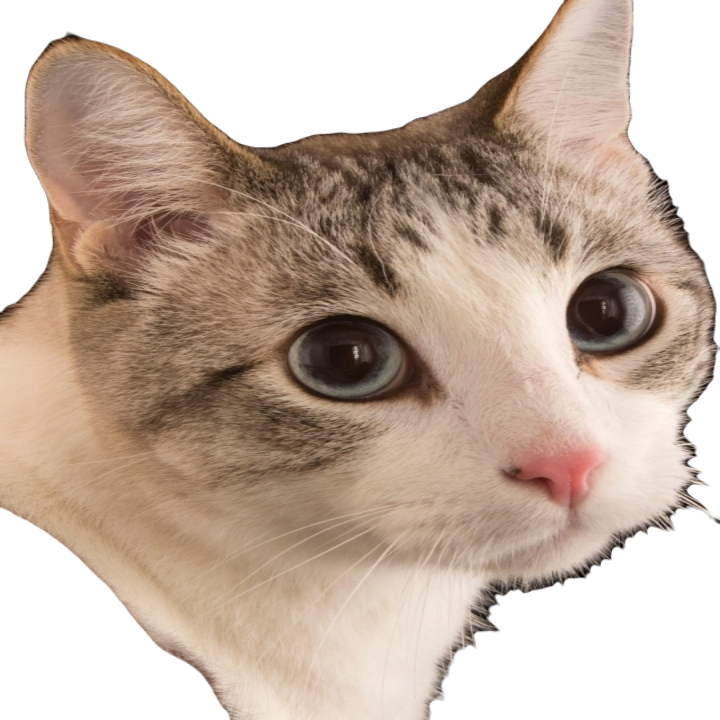Cat: (10, 0, 719, 720)
